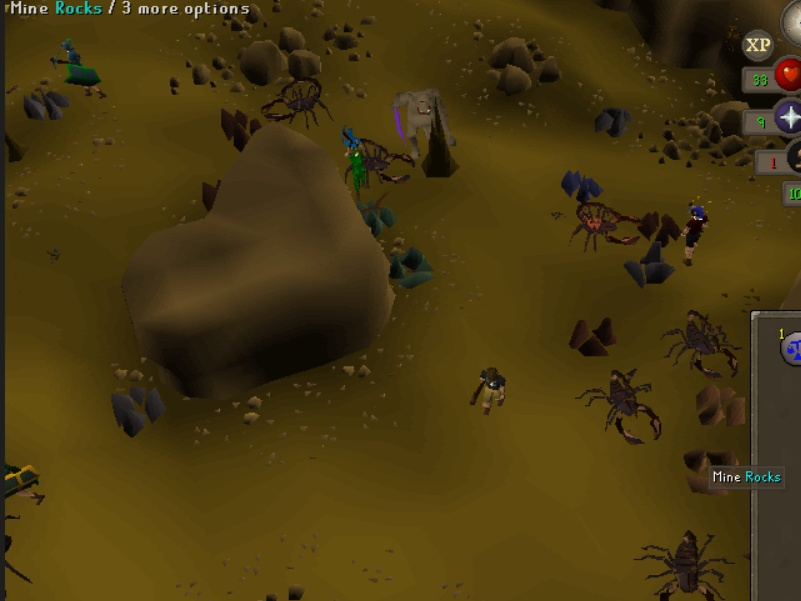adamant: (387, 242, 438, 299), (354, 195, 399, 238)
copper: (680, 439, 745, 501), (694, 376, 752, 434)
iron: (566, 308, 623, 359), (213, 99, 261, 151), (636, 206, 685, 246)
mithril: (555, 162, 604, 202)
